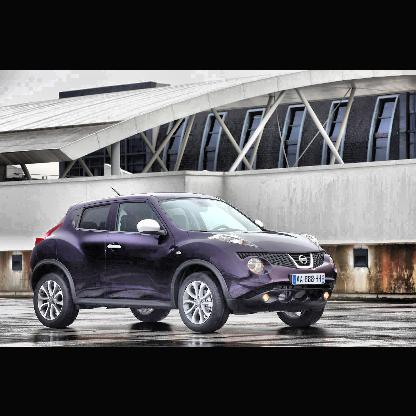Nissan Juke Hatchback 2012: (28, 186, 341, 334)
